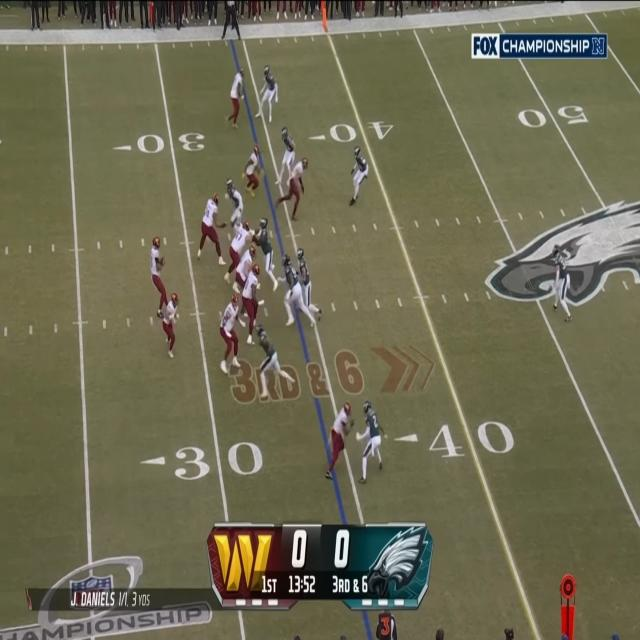Ball: (159, 256, 166, 266)
